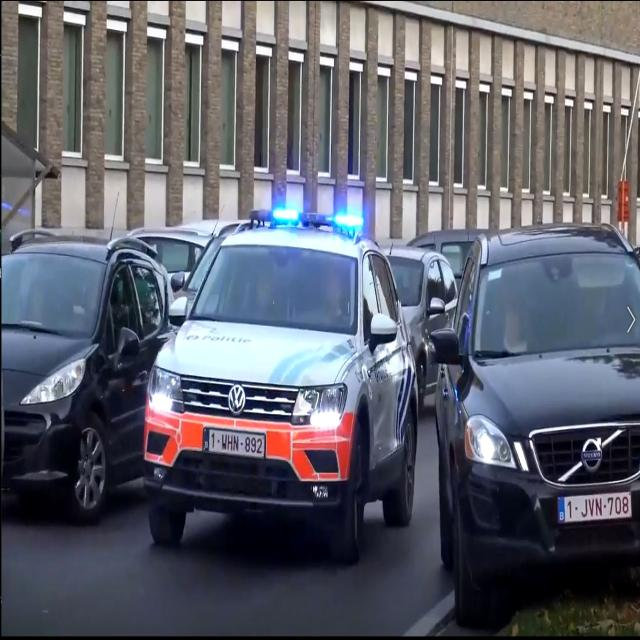emergency: (139, 202, 419, 557)
